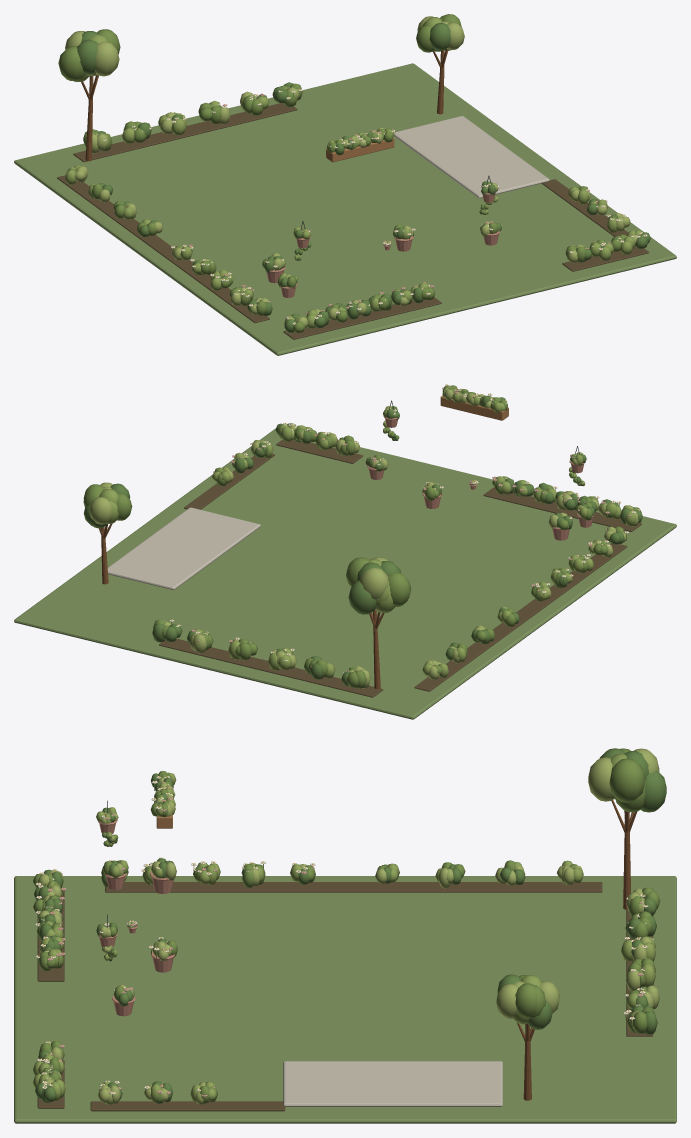
File: SM_CreatorCoupleHouse_Garden.fbx
The picture shows the model from 3 angles, top to bottom: view 1: azimuth 30°, elevation 25°; view 2: azimuth 150°, elevation 25°; view 3: azimuth 270°, elevation 25°; orthographic projection. The views are drawn at different scales.
Parts seen in each view (by area): view 1: SM_CreatorCoupleHouse_Garden; view 2: SM_CreatorCoupleHouse_Garden; view 3: SM_CreatorCoupleHouse_Garden.
Boxes of the visible parts, x1,y1,x2,y2 form: SM_CreatorCoupleHouse_Garden: [14, 14, 676, 355]; SM_CreatorCoupleHouse_Garden: [14, 384, 676, 719]; SM_CreatorCoupleHouse_Garden: [14, 748, 676, 1123].
Size of what is drawn, in the model's own units: 1400 by 1600 by 484.
